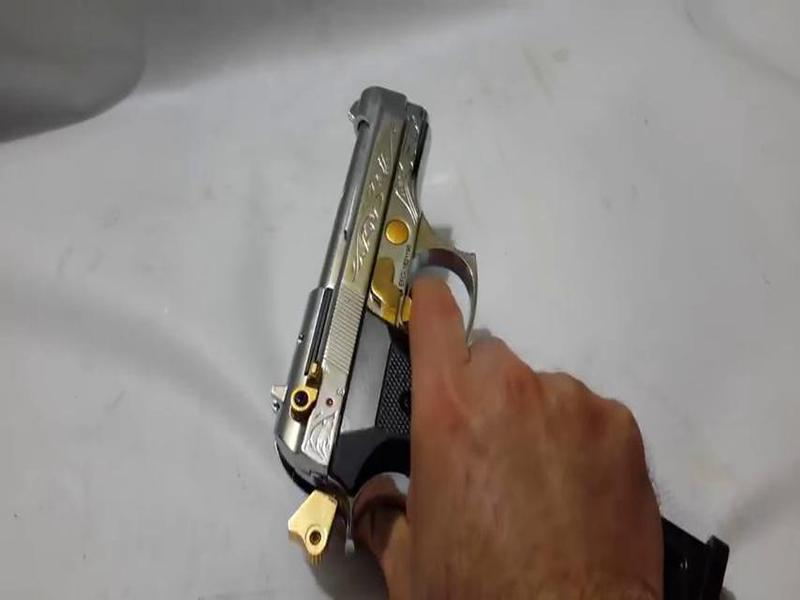Pistola: (244, 64, 742, 558)
